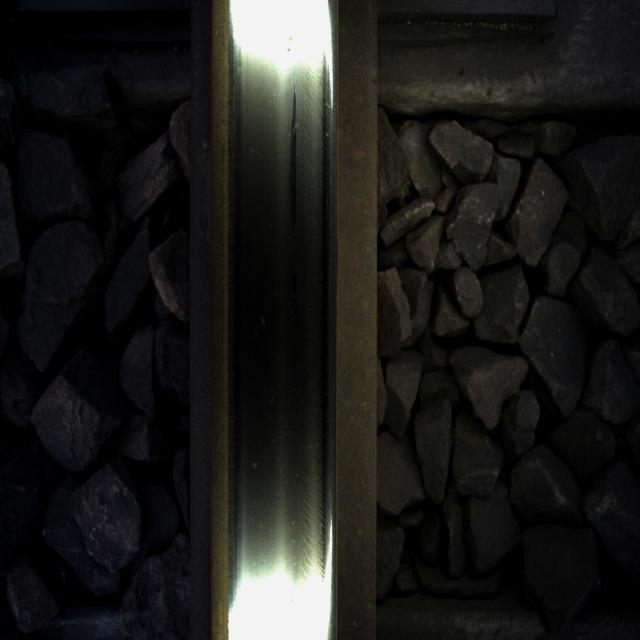break: (236, 34, 325, 588)
